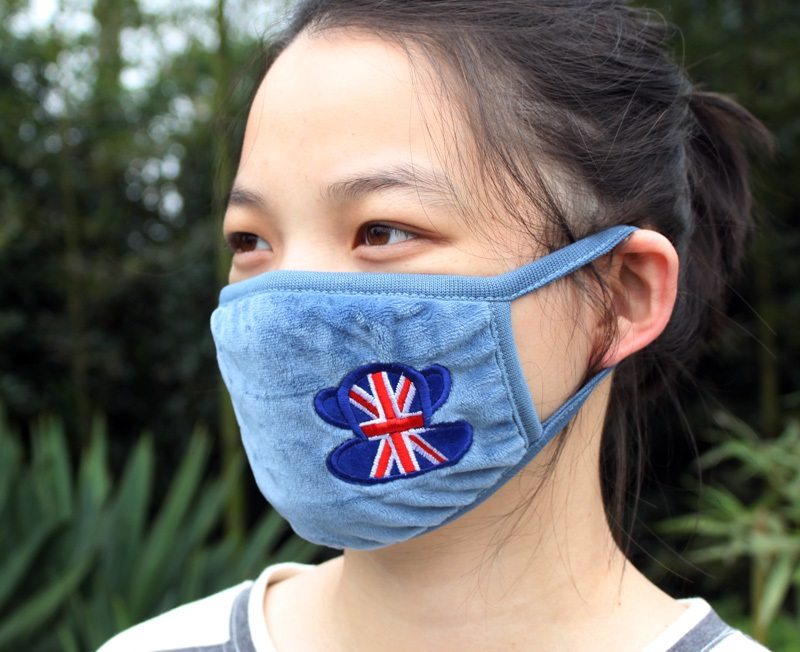face_mask: (209, 38, 561, 550)
